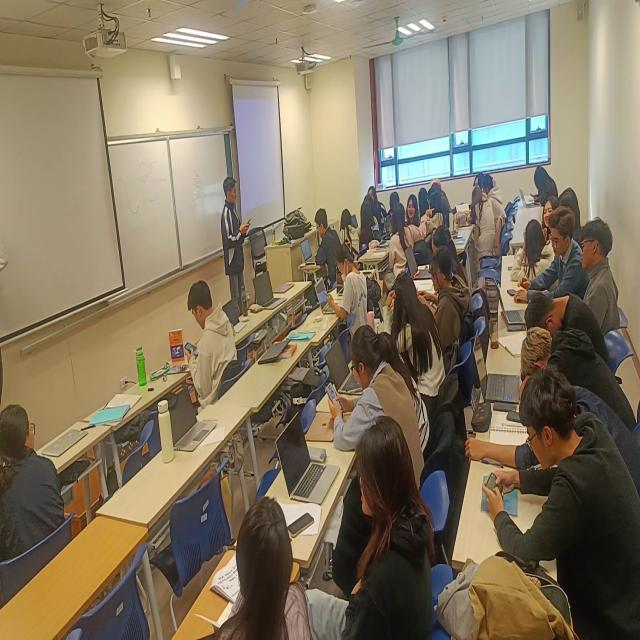raise_head: (337, 416, 435, 640), (210, 493, 320, 640), (1, 405, 67, 594), (581, 218, 622, 332)
sleep: (518, 326, 640, 439), (525, 288, 613, 366)
stand: (220, 171, 253, 311), (311, 205, 342, 292)
using_computer: (421, 247, 469, 387), (429, 221, 464, 287), (479, 174, 508, 228), (429, 182, 452, 227), (419, 188, 431, 219), (390, 192, 402, 217)
using_phone: (480, 364, 640, 640), (342, 324, 420, 502), (387, 281, 448, 409), (513, 205, 589, 307), (185, 282, 238, 411), (324, 245, 373, 347)
